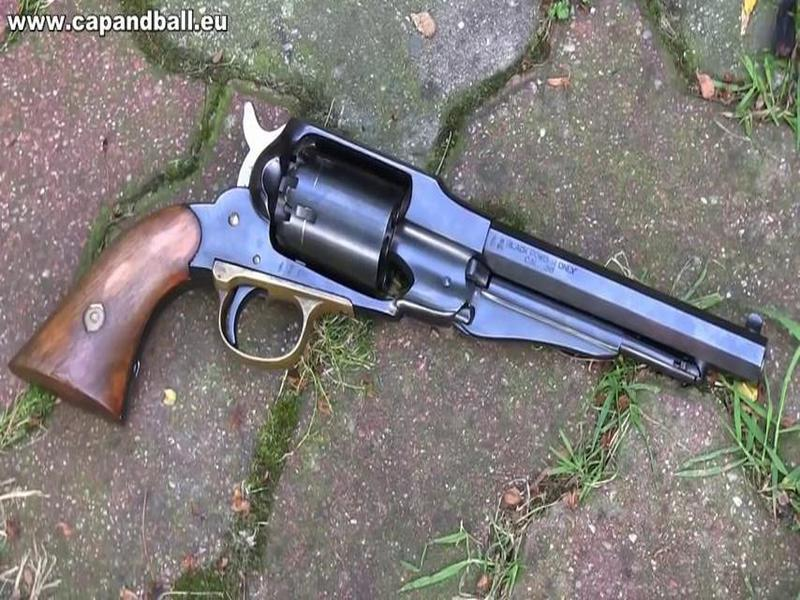Revolver: (99, 91, 771, 467)
